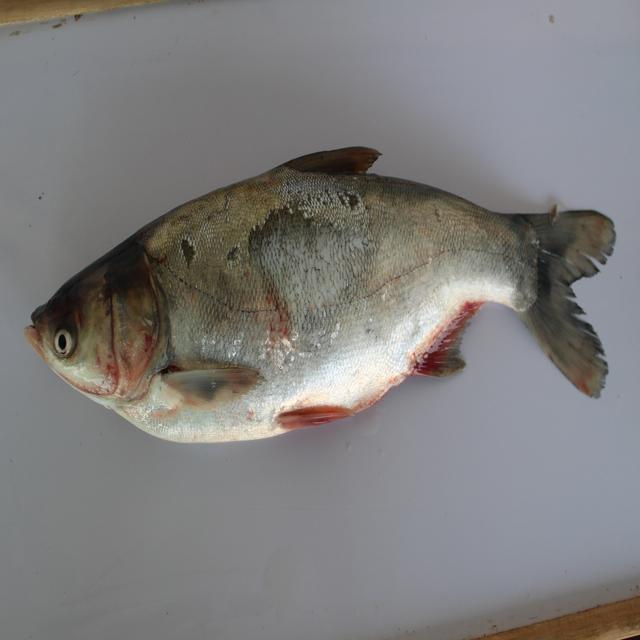SilverCarp: (39, 147, 619, 448)
